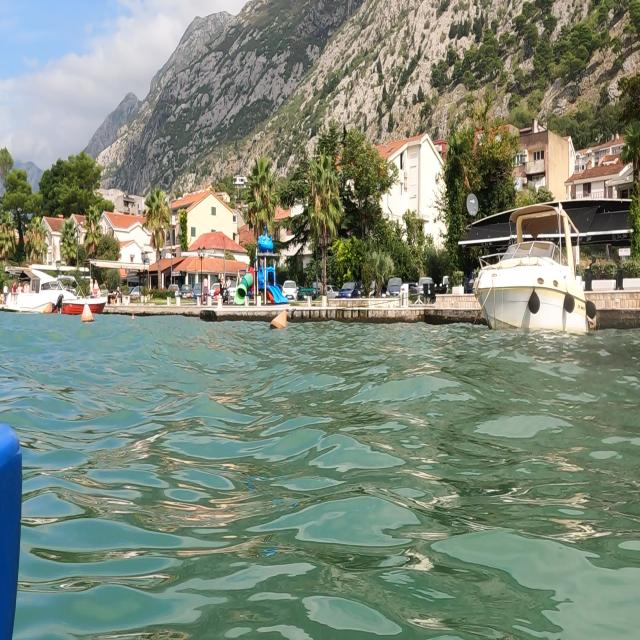boat: (469, 199, 597, 338)
buoy: (266, 304, 294, 336), (75, 298, 99, 333)
